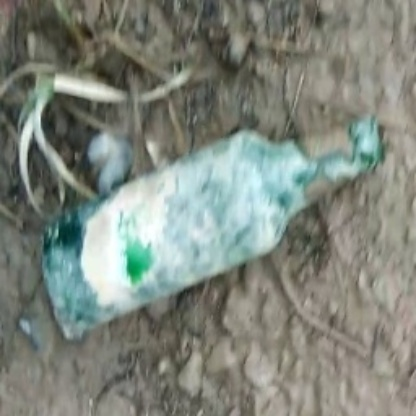bottle: (37, 114, 385, 342)
